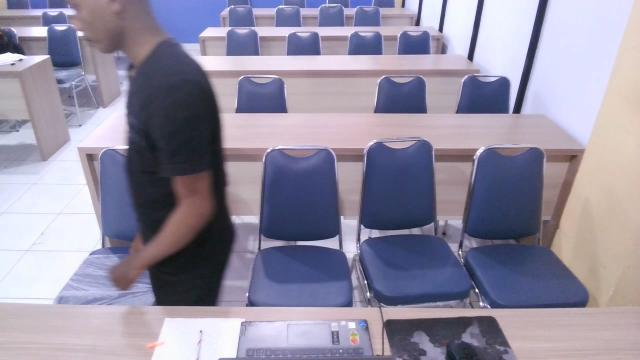Empty_Desk: (195, 102, 402, 360)
